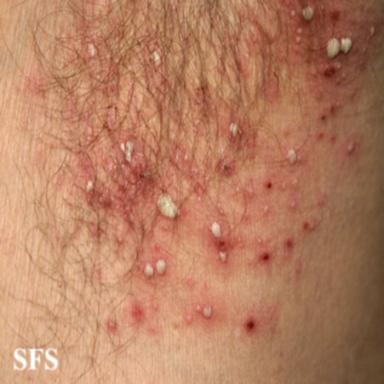Impetigo: (31, 2, 383, 338)
